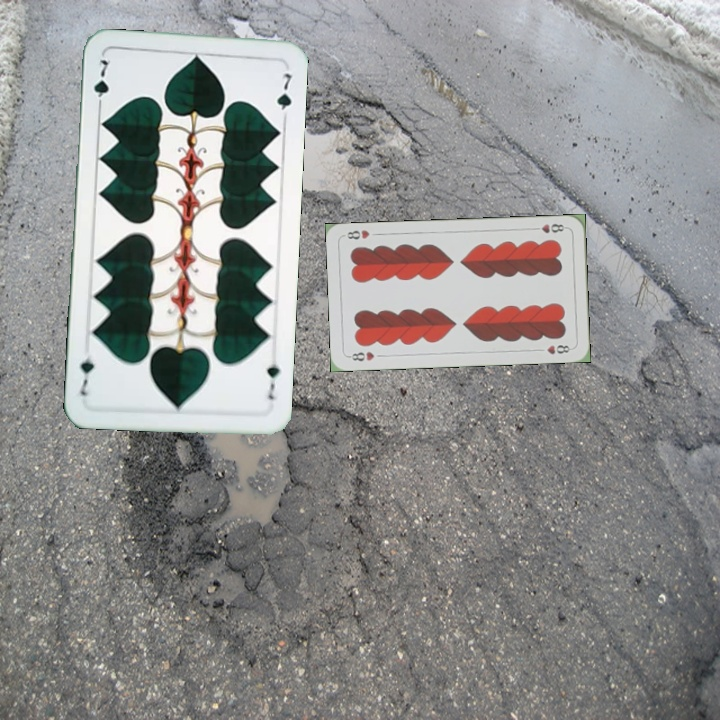G7: (89, 55, 111, 112), (263, 352, 282, 403)
H8: (529, 220, 569, 235), (345, 347, 377, 363)
